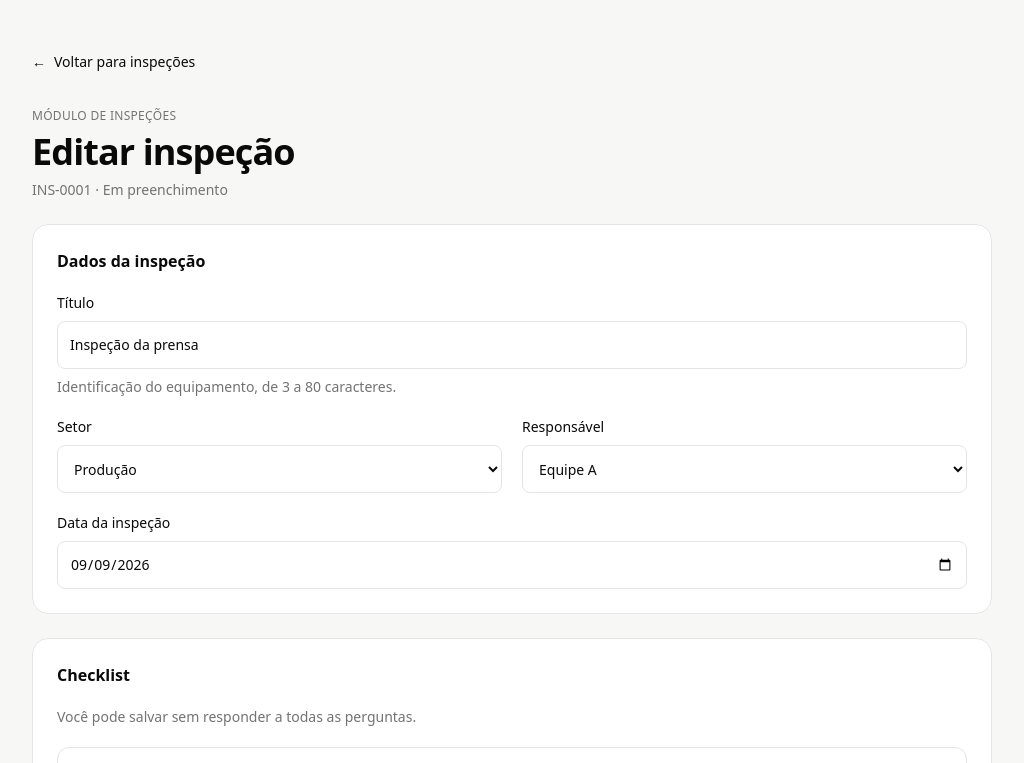
Scenario: edição e envio pela interface › carrega os campos, aceita rascunho incompleto e salva sem criar evento de edição
This screenshot has width=1024, height=763.
expect the heading "Editar inspeção" is shown: met, box [32,127,295,176]
Replace the text in the field labelled "Título" with "Prensa alterada" at (512, 345), box [57,321,967,369]
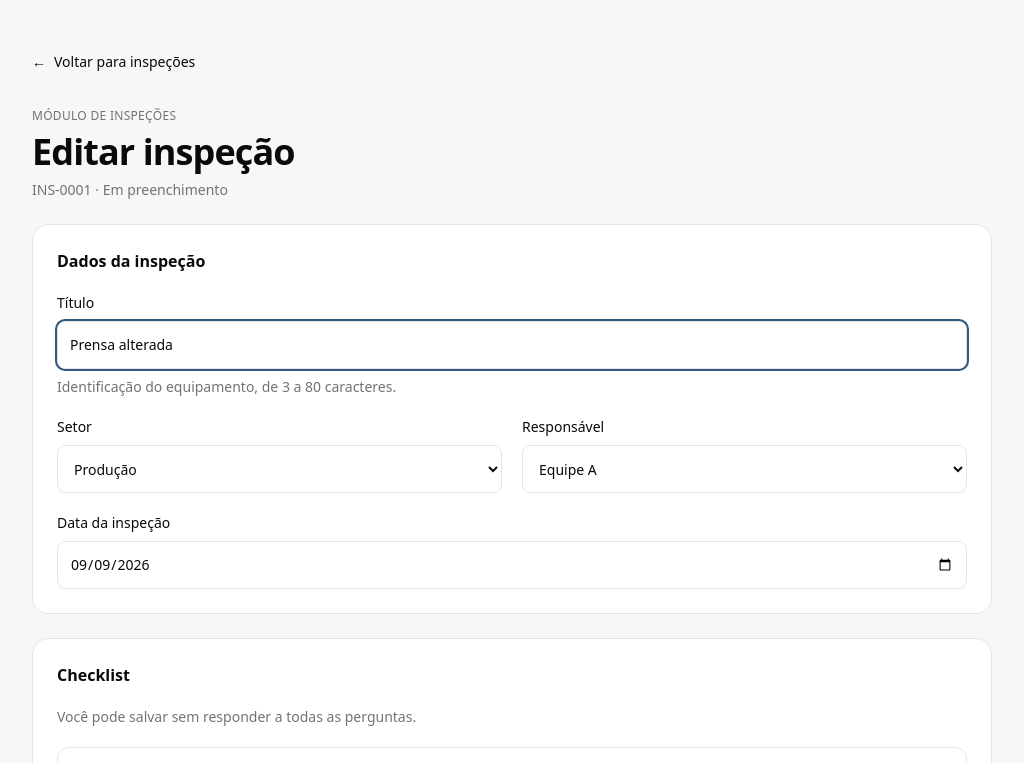
Select "Almoxarifado" in the dropdown labelled "Setor" at (280, 469), box [57,445,502,493]
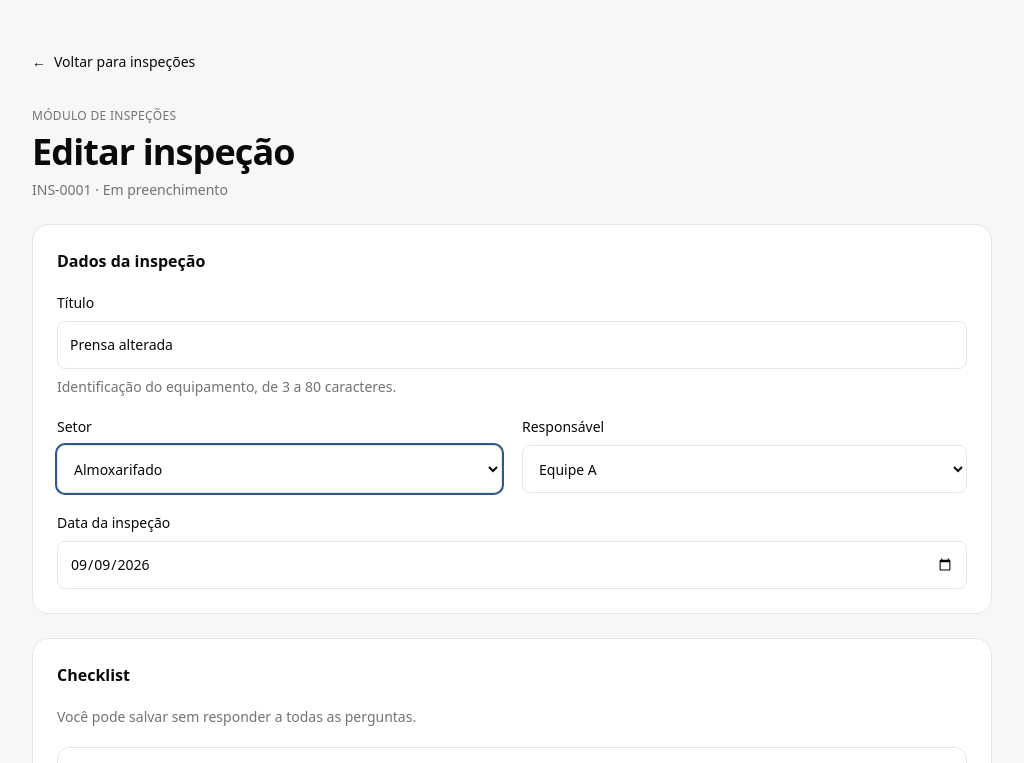
Select "Equipe C" in the dropdown labelled "Responsável" at (744, 469), box [522,445,967,493]
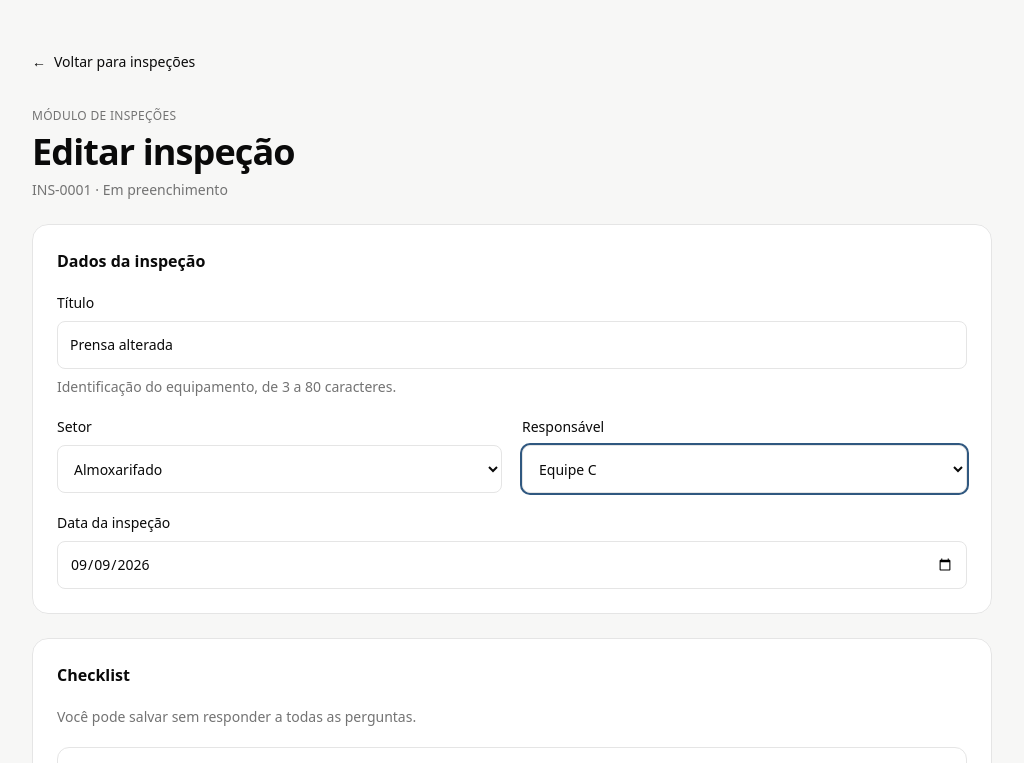
Type "2000-02-29" into the date field labelled "Data da inspeção".
click(512, 565); type("2000-02-29")  # box [57,541,967,589]
(page scrolled)
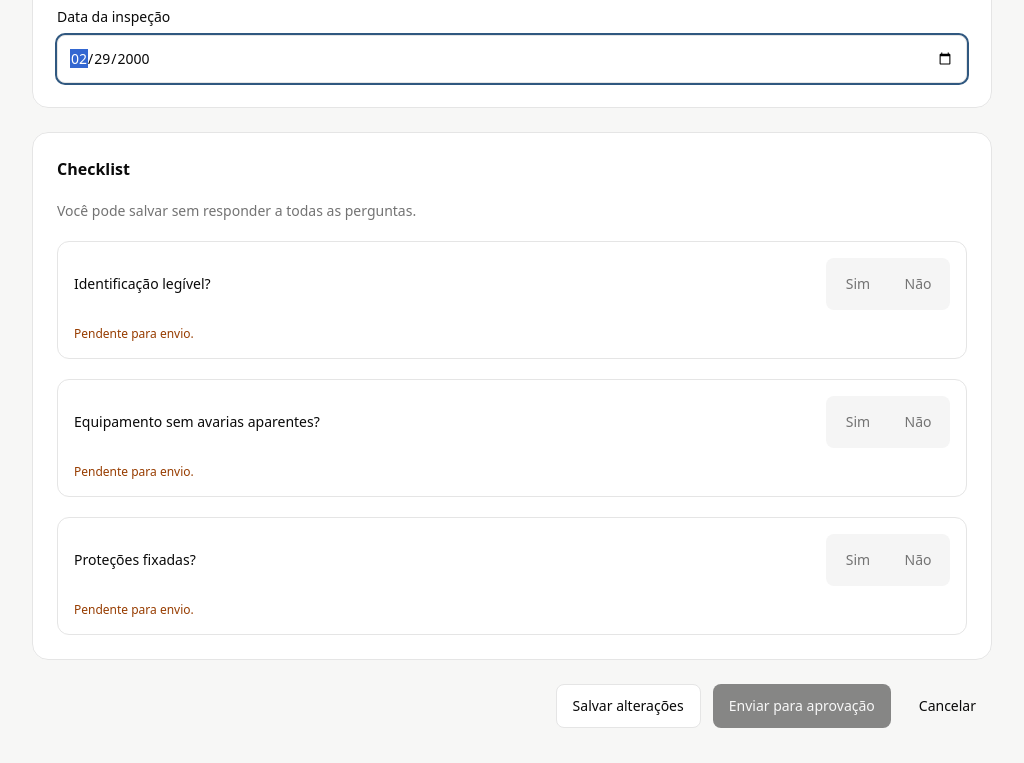
Click the radio button labelled "Não" in the row of "Equipamento sem avarias aparentes?".
click(918, 422)  # box [904,412,932,431]
(page scrolled)
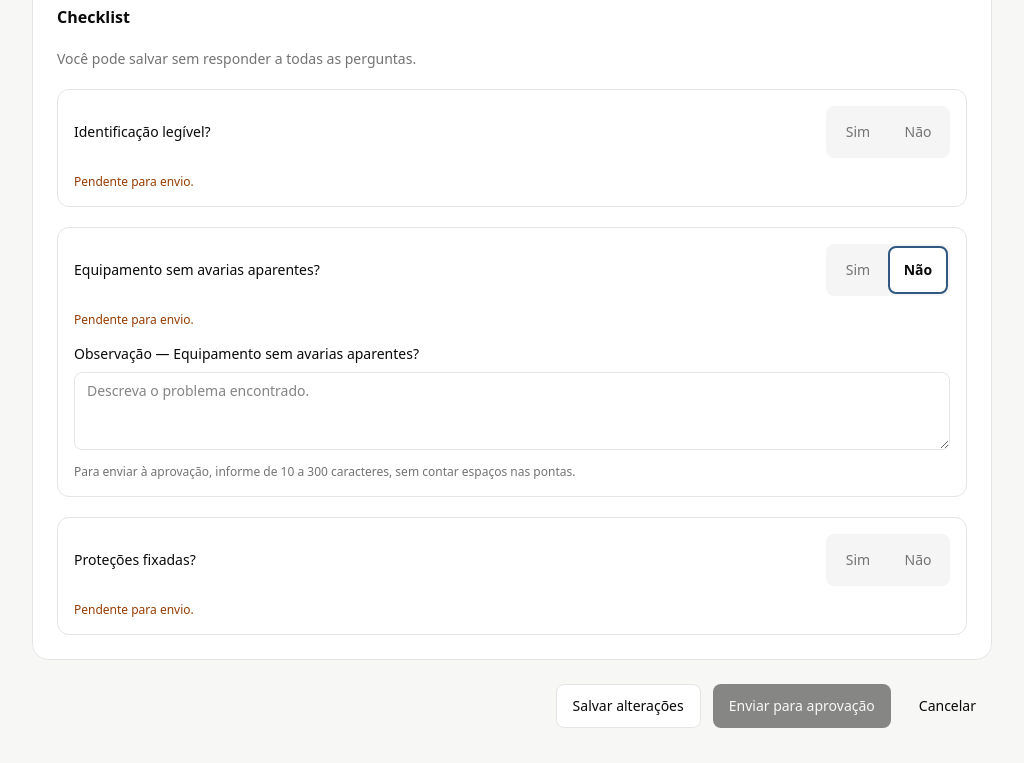
Click the button "Salvar alterações".
click(628, 706)  # box [556,684,701,728]
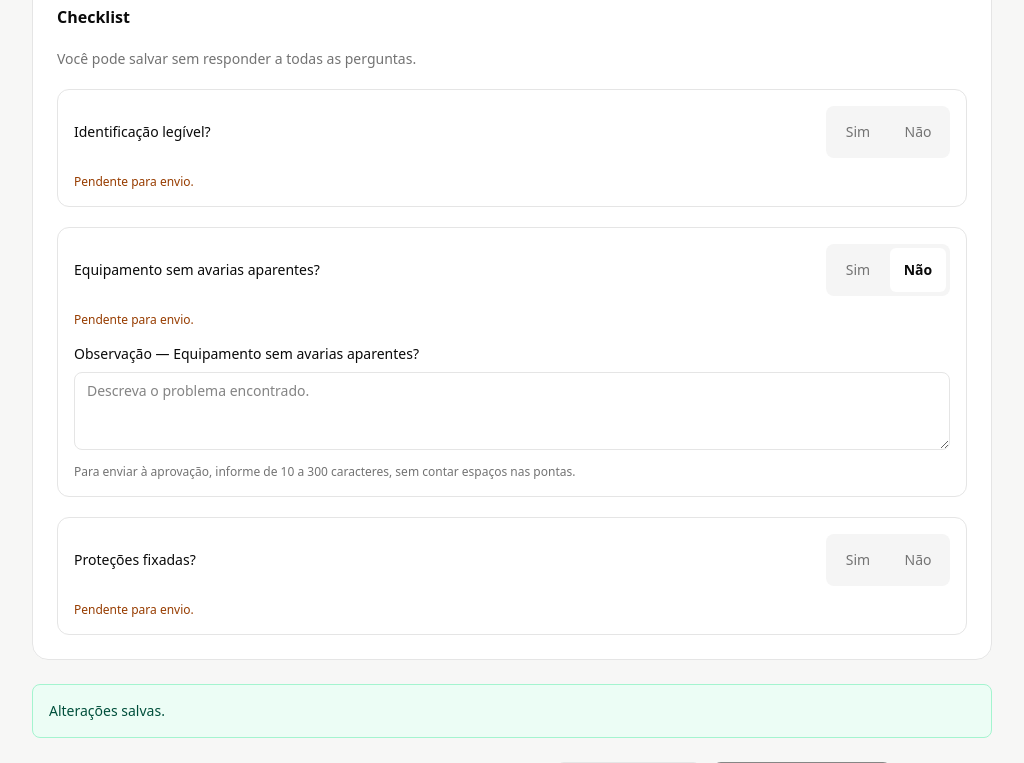
expect the message reads "Alterações salvas.": met, box [49,701,165,720]
